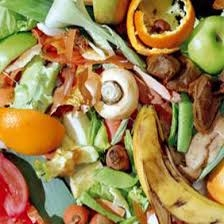kitchen_waste: (130, 101, 223, 224), (52, 145, 152, 223), (35, 1, 138, 64), (126, 1, 197, 54), (1, 105, 68, 157), (86, 66, 145, 123), (186, 12, 224, 77), (1, 152, 29, 223), (166, 89, 197, 152), (1, 29, 36, 78), (102, 141, 135, 172), (57, 202, 90, 224)
